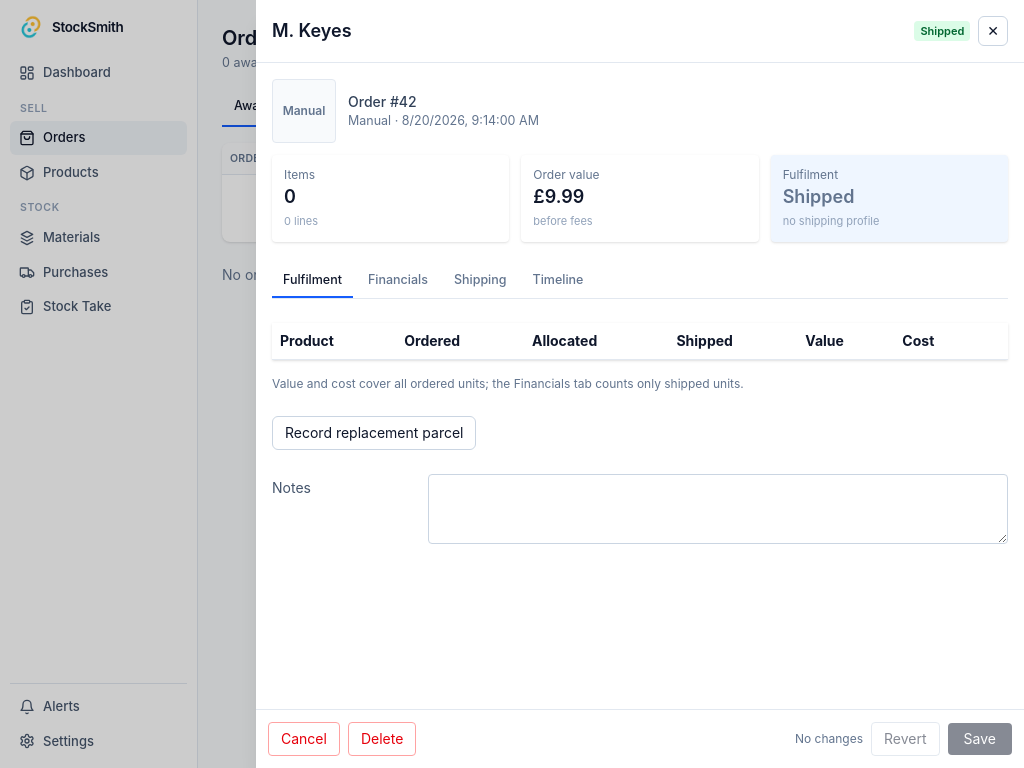
synthesises a timeline from the order's timestamps
Expected: the heading "M. Keyes" is shown, x1=272 y1=17 x2=352 y2=45
Click the button "Timeline" at (558, 282), box x1=522 y1=266 x2=594 y2=298
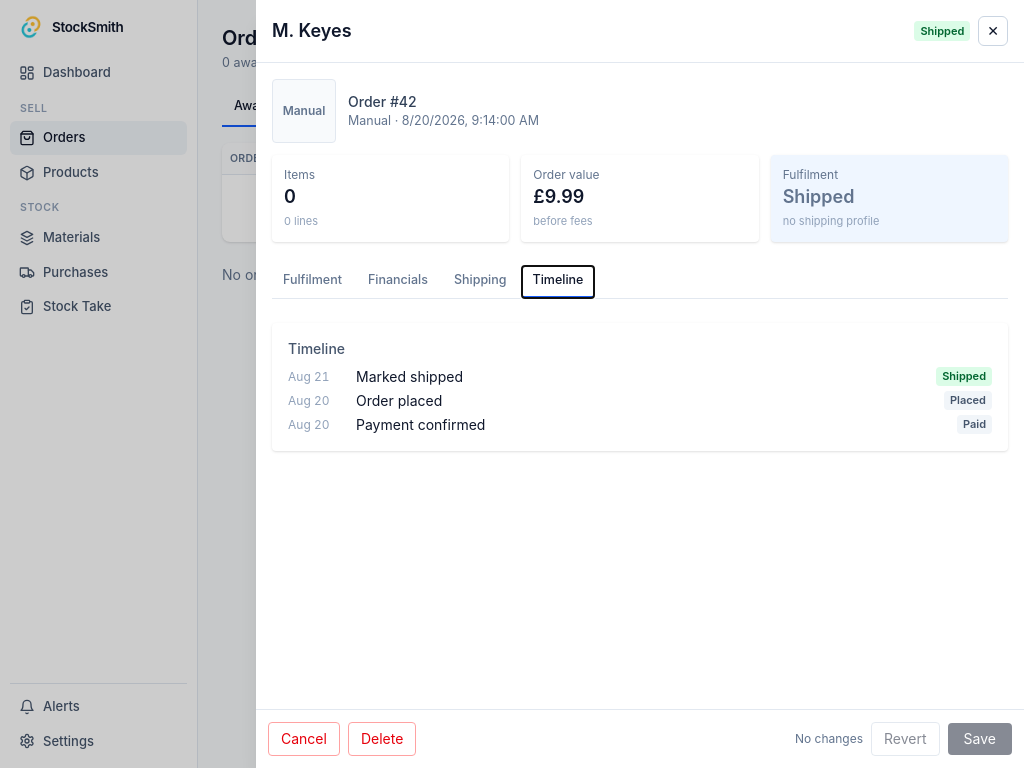
Expected: the text "Order placed" is shown, x1=356 y1=392 x2=442 y2=408
Expected: the text "Marked shipped" is shown, x1=356 y1=368 x2=463 y2=384
